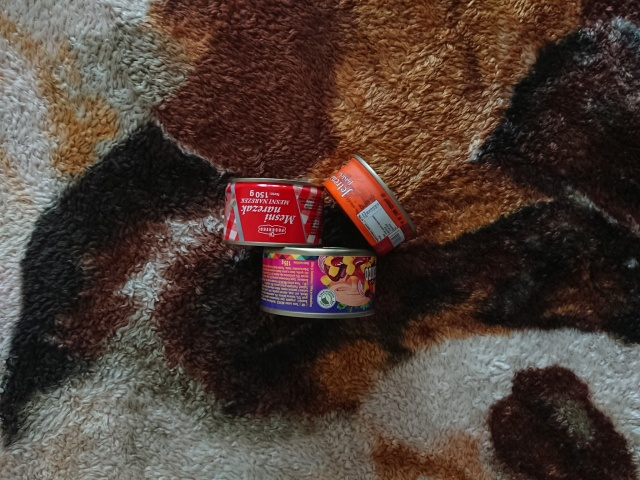Gavrilovic Pork Liver Pate 100g: (320, 151, 417, 258)
Giana Tuna Salad Mexico 185g: (256, 241, 379, 321)
Podravka Luncheon Meat 150g: (219, 175, 328, 250)
